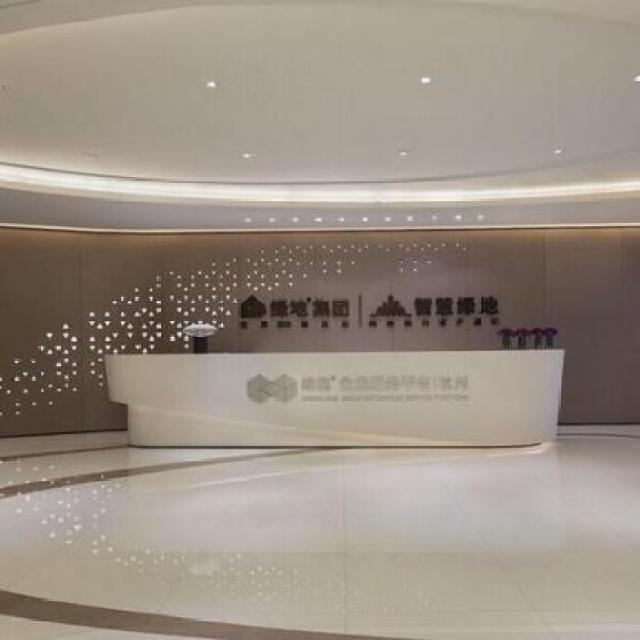frontdesk: (90, 342, 572, 462)
